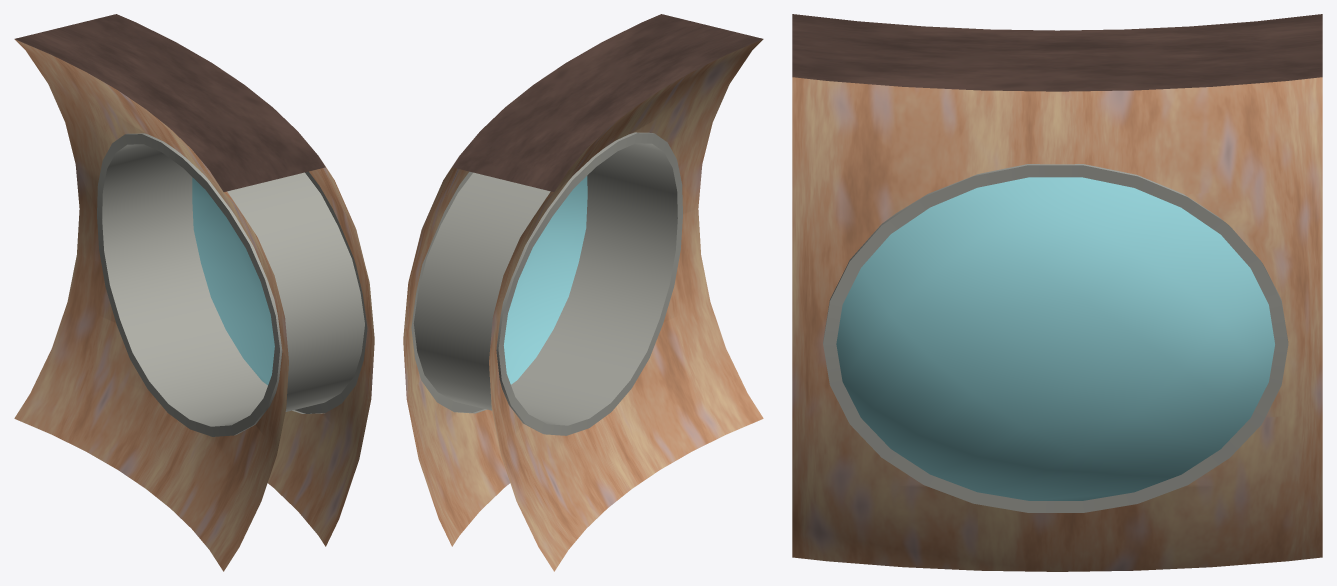
File: FI_020_francos_building_wall_window.glb
3 views of the same model, side by side, from view 1: azimuth 30°, elevation 25°; view 2: azimuth 150°, elevation 25°; view 3: azimuth 270°, elevation 25° (orthographic). The views are drawn at different scales.
Visible parts, largest first — view 1: wall_hole, glass_out, glass_in; view 2: wall_hole, glass_out, glass_in; view 3: wall_hole, glass_out, glass_in.
Boxes of the visible parts, x1,y1,x2,y2 form: wall_hole: (14, 14, 374, 571); glass_out: (192, 177, 274, 385); glass_in: (192, 182, 273, 384); wall_hole: (403, 14, 763, 571); glass_out: (503, 176, 587, 384); glass_in: (504, 179, 586, 383); wall_hole: (792, 14, 1322, 571); glass_out: (836, 177, 1274, 500); glass_in: (836, 177, 1273, 500).
Bounding box in the file's own units: 1.65 × 3 × 3.
Materials: 4 (2 with a texture image).
